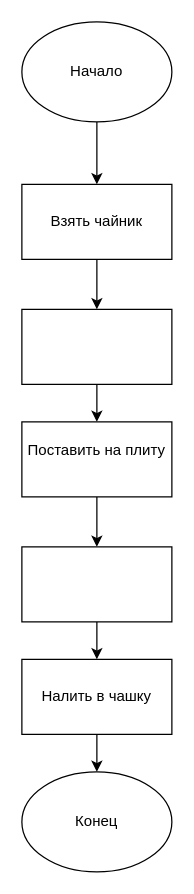
Some shapes in this 194 by 894 pixel diagram are drawn without their labels. Each missing label, with the box of its shape:
Дождаться закипания: (21, 546, 172, 622)
Налить воду: (21, 308, 172, 384)
